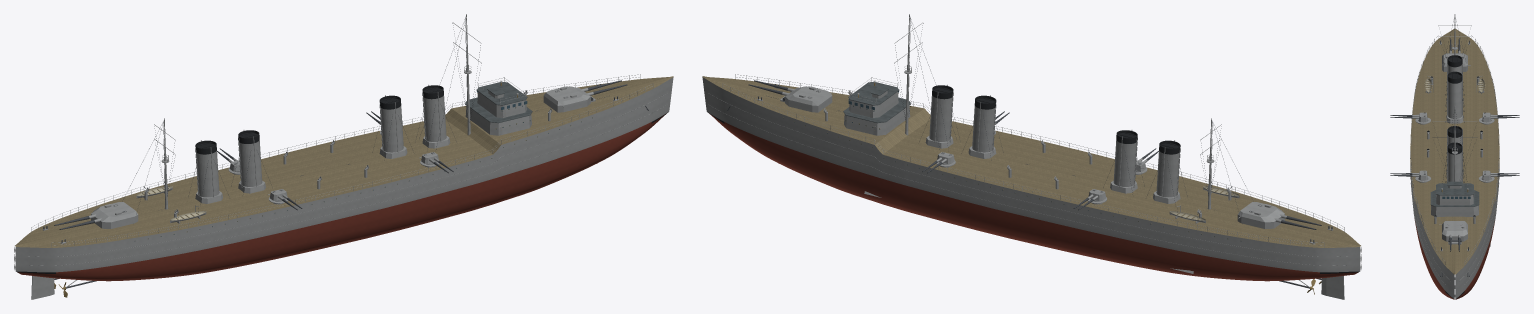
Rendered from san_giorgio.glb.
The picture shows the model from 3 angles, left to right: view 1: azimuth 30°, elevation 25°; view 2: azimuth 150°, elevation 25°; view 3: azimuth 270°, elevation 25°; orthographic projection. The views are drawn at different scales.
Parts seen in each view (by area): view 1: San Giorgio class; view 2: San Giorgio class; view 3: San Giorgio class.
Boxes of the visible parts, x1,y1,x2,y2 form: San Giorgio class: (14,14,673,299); San Giorgio class: (702,14,1361,299); San Giorgio class: (1390,14,1519,299).
Size of the model in its own units: 141 by 37.3 by 30.4.
Materials: 9 (8 with a texture image).
